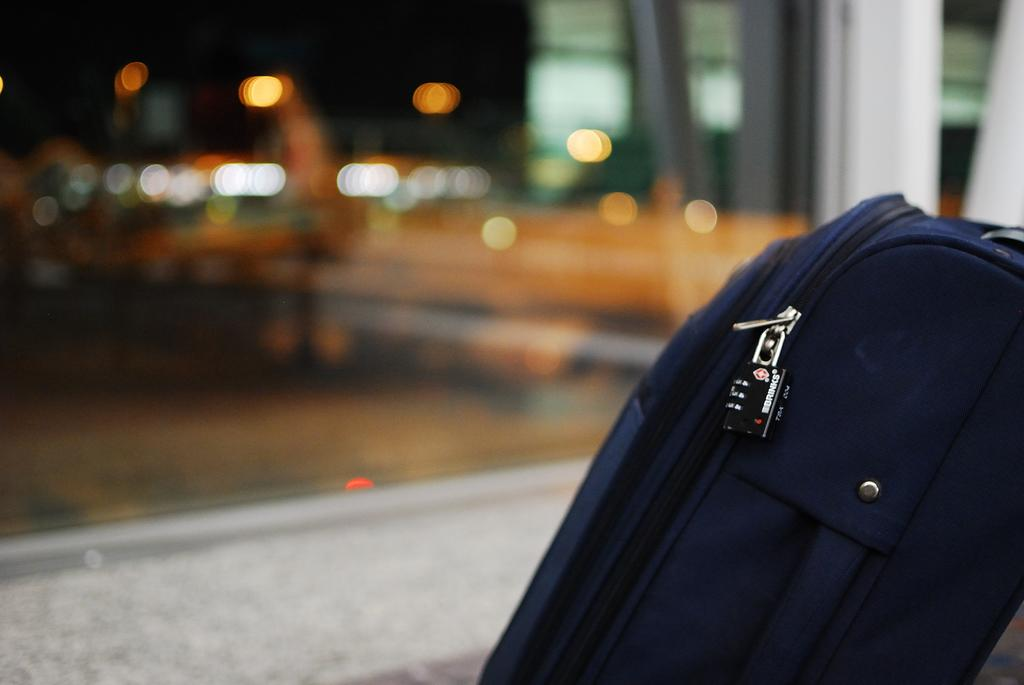Luggage-and-bags: (453, 162, 1024, 684)
